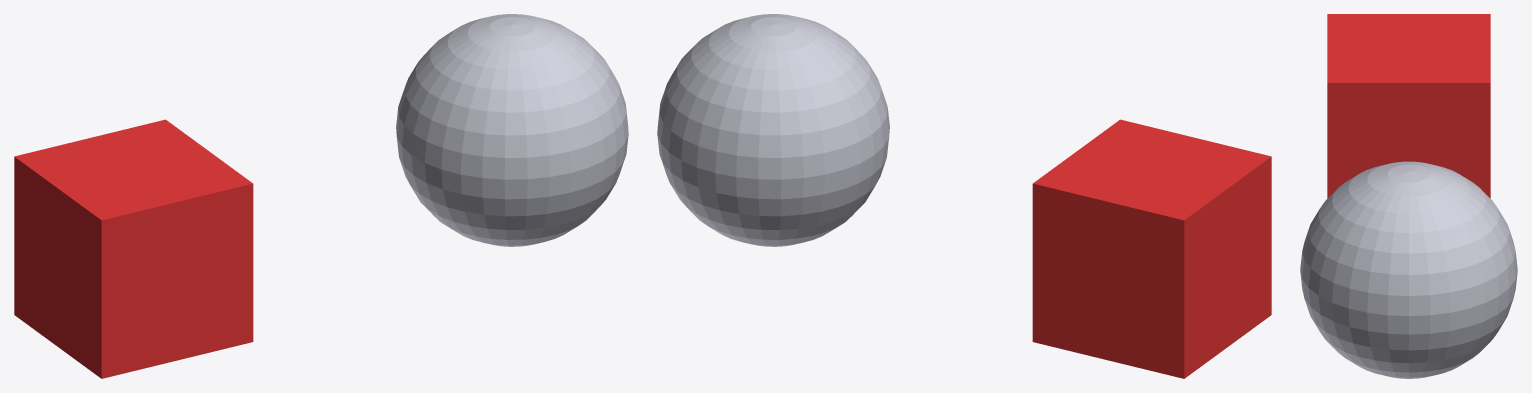
Rendered from twomat.obj.
3 renders of one model, left to right at view 1: azimuth 30°, elevation 25°; view 2: azimuth 150°, elevation 25°; view 3: azimuth 270°, elevation 25°, orthographic. The views are drawn at different scales.
Parts seen in each view (by area): view 1: TwoMat; view 2: TwoMat; view 3: TwoMat.
Boxes of the visible parts, left/top/right/bottom form: TwoMat: left=14, top=14, right=628, bottom=378; TwoMat: left=657, top=14, right=1271, bottom=378; TwoMat: left=1300, top=14, right=1517, bottom=378.
Bounding box in the file's own units: 4.4 × 1.6 × 1.6.
